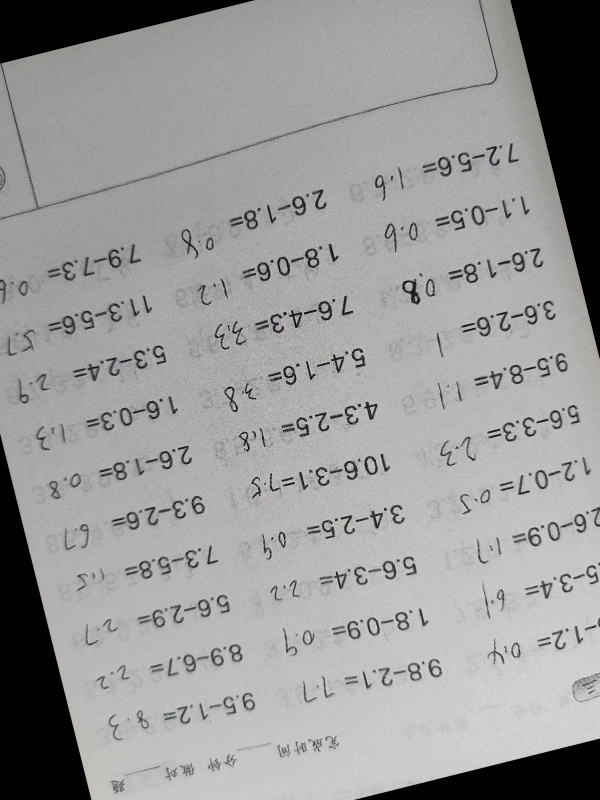equation: (183, 294, 358, 354), (222, 449, 396, 506), (349, 141, 524, 197), (360, 194, 535, 250), (169, 244, 344, 300), (374, 247, 549, 303), (386, 300, 561, 356), (49, 544, 224, 600), (237, 503, 412, 559), (274, 655, 449, 711), (401, 353, 575, 409), (413, 405, 587, 461), (159, 192, 334, 247), (197, 348, 372, 403), (25, 446, 200, 501), (211, 399, 386, 454), (38, 495, 213, 550), (424, 460, 599, 515), (249, 555, 424, 610), (259, 605, 434, 660), (88, 690, 263, 745), (437, 510, 600, 569), (75, 642, 249, 697), (9, 396, 184, 450), (0, 346, 174, 400), (63, 594, 237, 648), (0, 295, 159, 351), (448, 562, 600, 617), (0, 245, 148, 300), (457, 614, 600, 669)
